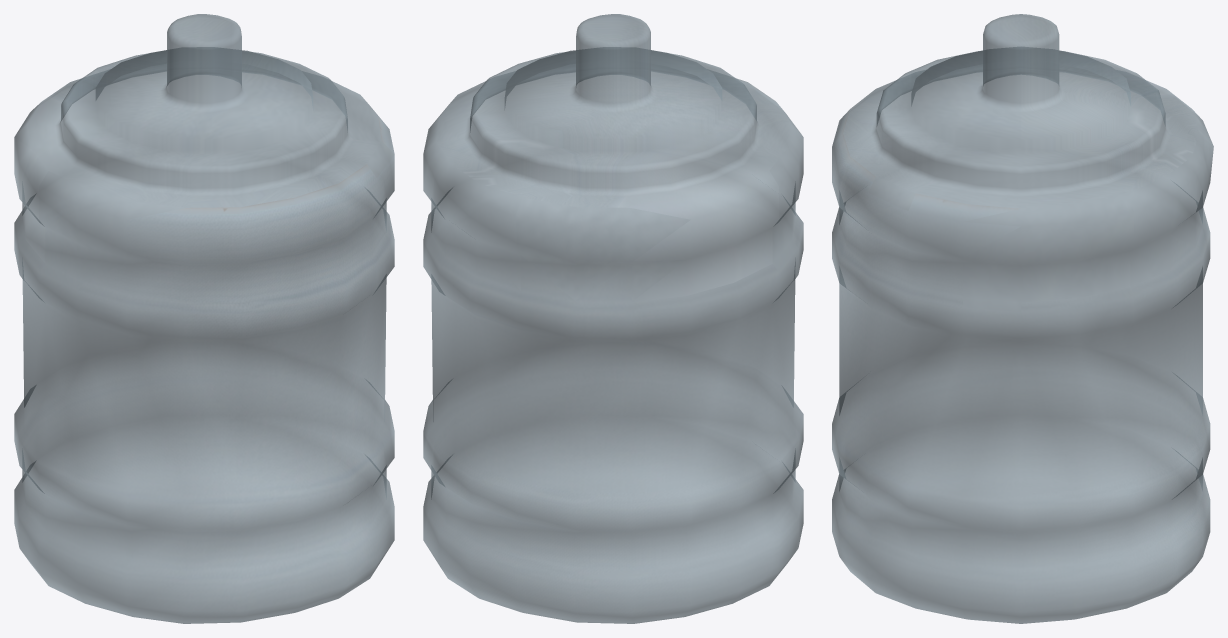
The model's file is ENV_water_v001.fbx.
3 renders of one model, left to right at view 1: azimuth 30°, elevation 25°; view 2: azimuth 150°, elevation 25°; view 3: azimuth 270°, elevation 25°, orthographic.
Parts seen in each view (by area): view 1: tripo_node_e819e6ec-d343-46d8-b955-ae939b29c6dc.001; view 2: tripo_node_e819e6ec-d343-46d8-b955-ae939b29c6dc.001; view 3: tripo_node_e819e6ec-d343-46d8-b955-ae939b29c6dc.001.
Part boxes in pixels (bbox=[...]): tripo_node_e819e6ec-d343-46d8-b955-ae939b29c6dc.001: bbox=[14, 14, 394, 623]; tripo_node_e819e6ec-d343-46d8-b955-ae939b29c6dc.001: bbox=[423, 14, 803, 623]; tripo_node_e819e6ec-d343-46d8-b955-ae939b29c6dc.001: bbox=[832, 14, 1213, 623].
Bounding box in the file's own units: 20.51 × 31.21 × 20.51.
1 material, 1 textured.
